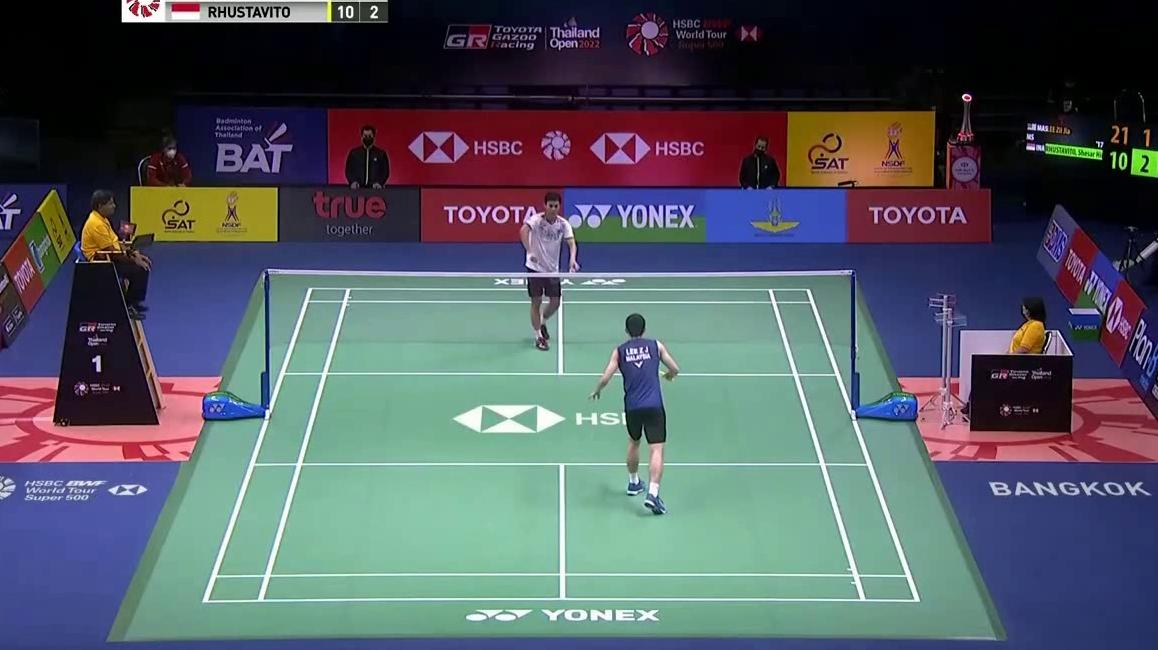racket: (529, 255, 568, 281)
shuttle: (569, 267, 576, 275)
